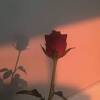rose: (40, 28, 76, 61)
